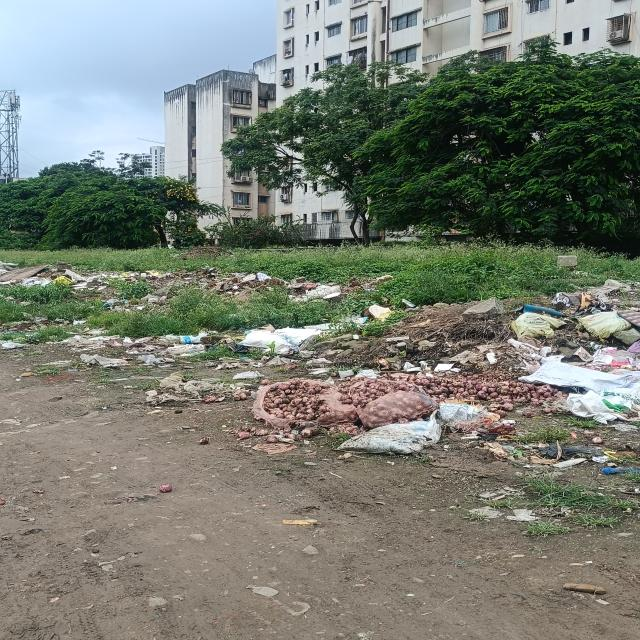garbage: (251, 289, 640, 469), (2, 268, 344, 365)
